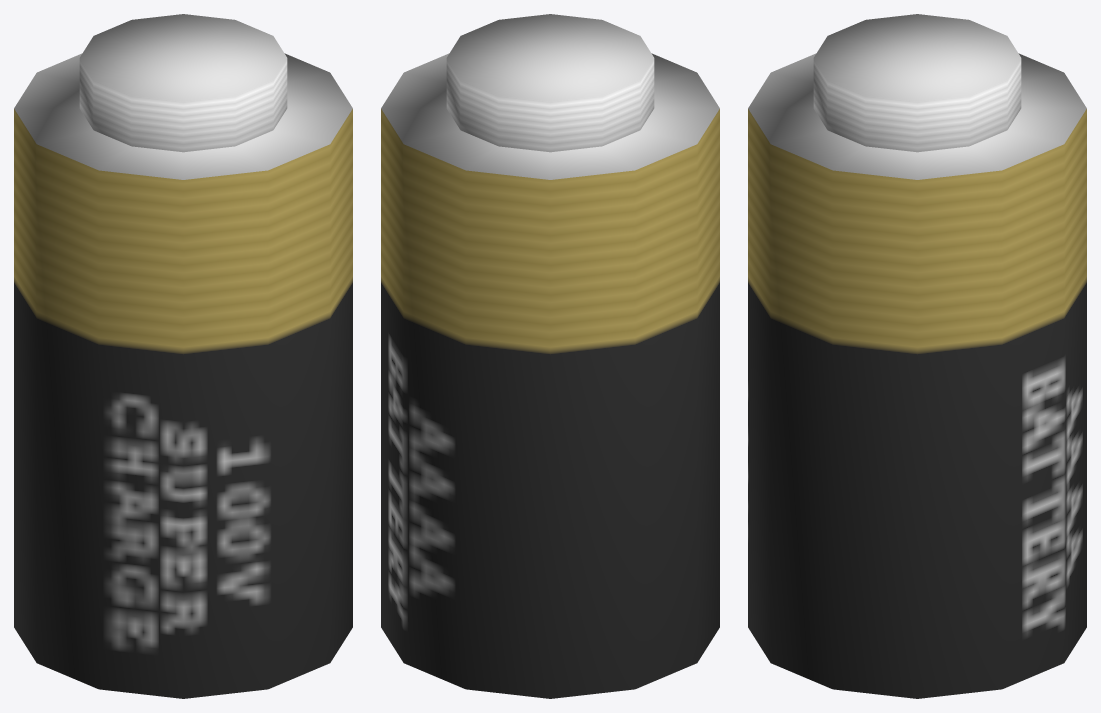
File: battery.fbx
The picture shows the model from 3 angles, left to right: view 1: azimuth 30°, elevation 25°; view 2: azimuth 150°, elevation 25°; view 3: azimuth 270°, elevation 25°; orthographic projection.
Parts seen in each view (by area): view 1: pCylinder3; view 2: pCylinder3; view 3: pCylinder3.
Part boxes in pixels (<box>): pCylinder3: <box>14,14,352,698</box>; pCylinder3: <box>381,14,719,698</box>; pCylinder3: <box>748,14,1086,698</box>.
Size of the model in its own units: 2 by 3.71 by 2.
Materials: 1 (1 with a texture image).
